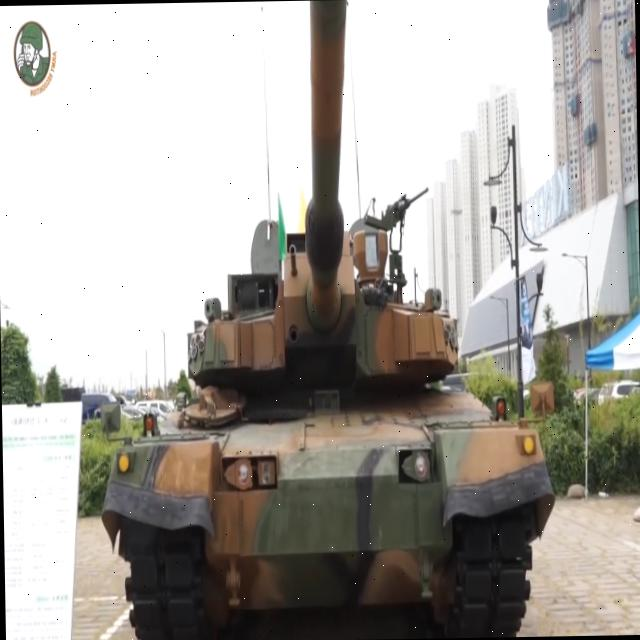korea tank: (89, 0, 562, 640)
